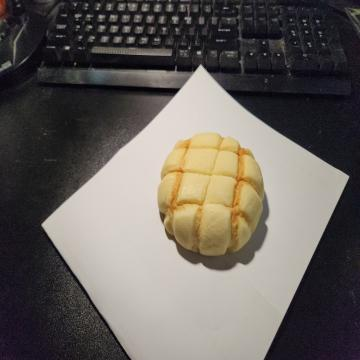melon_bread: (158, 132, 264, 257)
